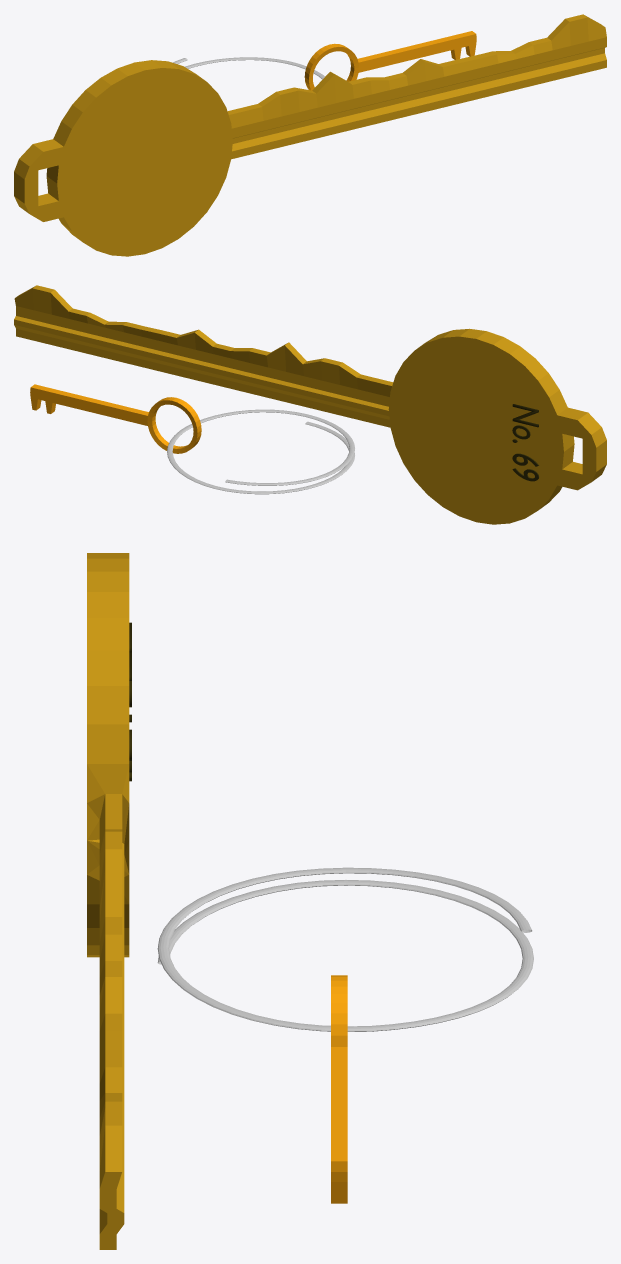
File: key.obj
3 renders of one model, top to bottom at view 1: azimuth 30°, elevation 25°; view 2: azimuth 150°, elevation 25°; view 3: azimuth 270°, elevation 25°, orthographic. The views are drawn at different scales.
Parts seen in each view (by area): view 1: Text, Cylinder, Torus; view 2: Text, Cylinder, Torus; view 3: Text, Torus, Cylinder.
Part boxes in pixels (left/top/right/bottom): Text: left=14, top=14, right=606, bottom=256; Cylinder: left=304, top=31, right=476, bottom=90; Torus: left=173, top=57, right=324, bottom=79; Text: left=14, top=285, right=606, bottom=524; Cylinder: left=30, top=384, right=201, bottom=453; Torus: left=167, top=409, right=354, bottom=494; Text: left=87, top=553, right=131, bottom=1249; Torus: left=157, top=867, right=533, bottom=1031; Cylinder: left=331, top=975, right=347, bottom=1203.
Bounding box in the file's own units: 158 × 47.53 × 52.52.
